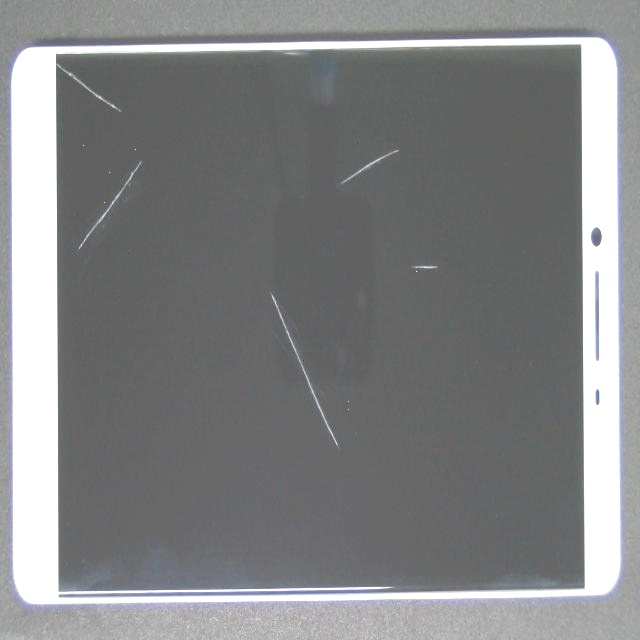scratch: (212, 112, 611, 402), (142, 130, 407, 415), (168, 83, 504, 269), (112, 19, 177, 266), (11, 0, 94, 106)
